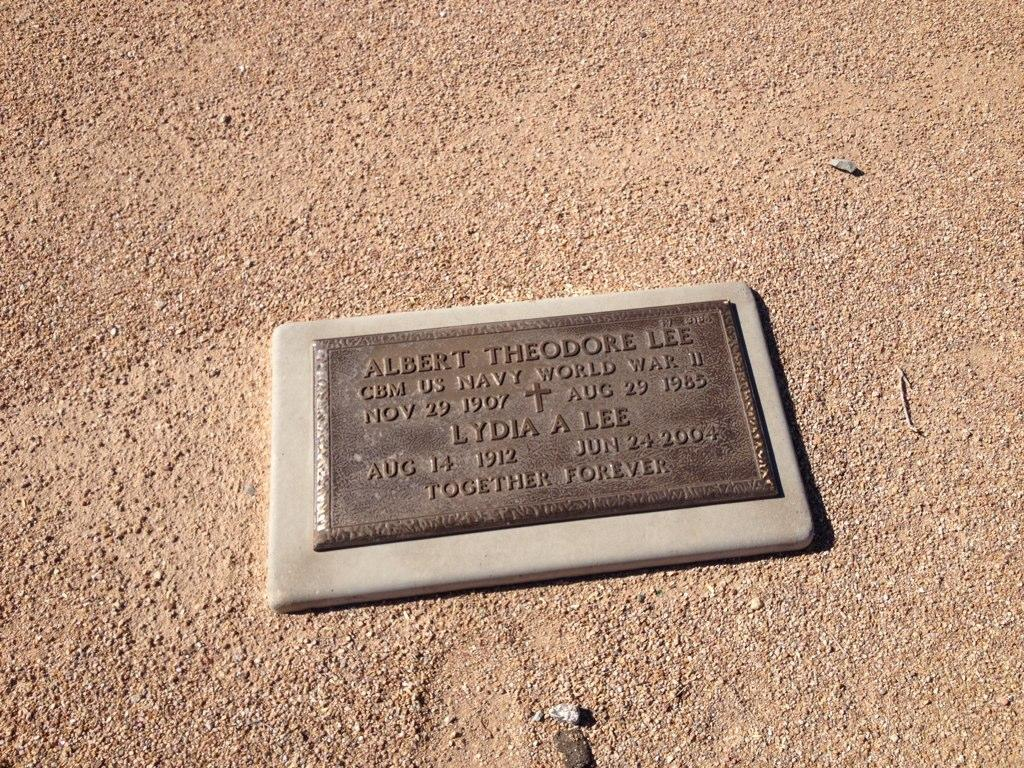flat: (229, 286, 844, 607)
